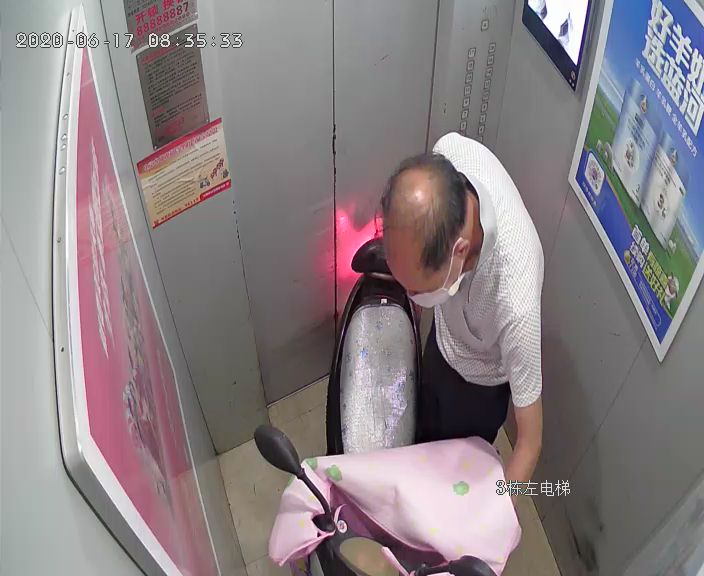Electric-bicycle: (255, 240, 500, 576)
